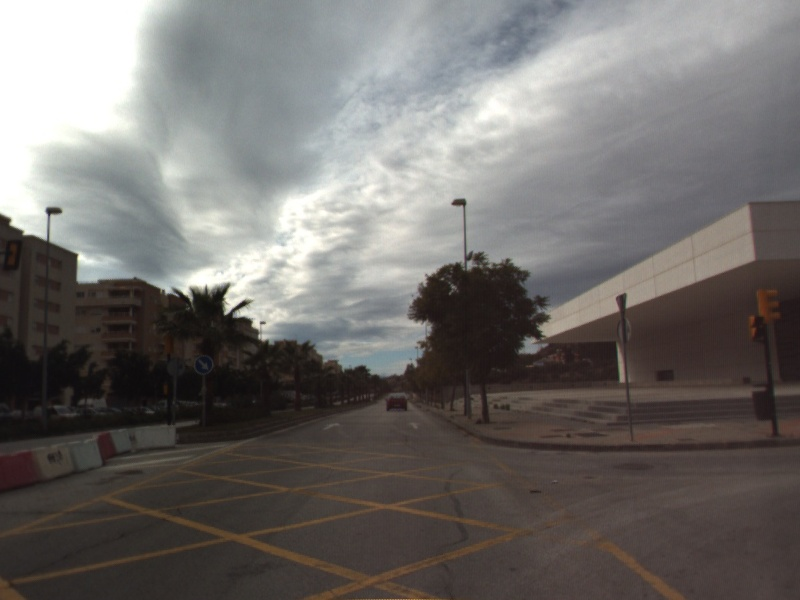STRAIGHT: (321, 420, 342, 432), (405, 419, 423, 431)
